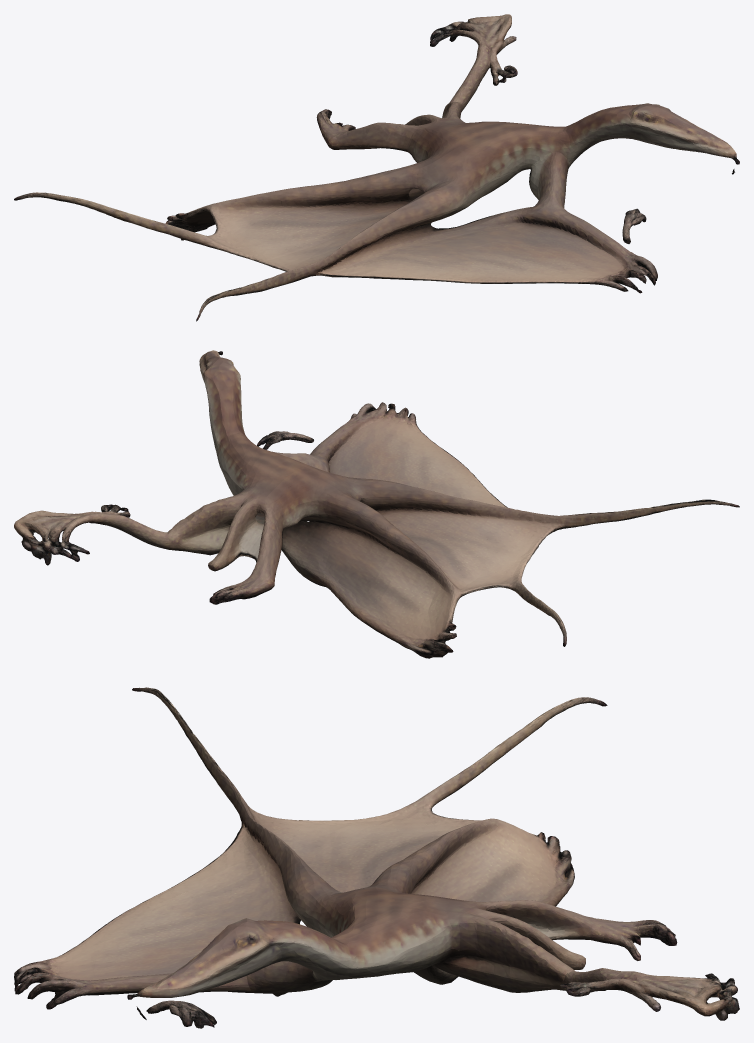
The picture shows the model from 3 angles, top to bottom: view 1: azimuth 30°, elevation 25°; view 2: azimuth 150°, elevation 25°; view 3: azimuth 270°, elevation 25°; orthographic projection. The views are drawn at different scales.
Visible parts, largest first — view 1: world; view 2: world; view 3: world.
Part boxes in pixels (bbox=[...]): world: bbox=[14, 14, 739, 321]; world: bbox=[14, 350, 739, 658]; world: bbox=[14, 687, 739, 1028].
Bounding box in the file's own units: 0.9992 × 0.2387 × 0.8852.
1 material, 1 textured.
